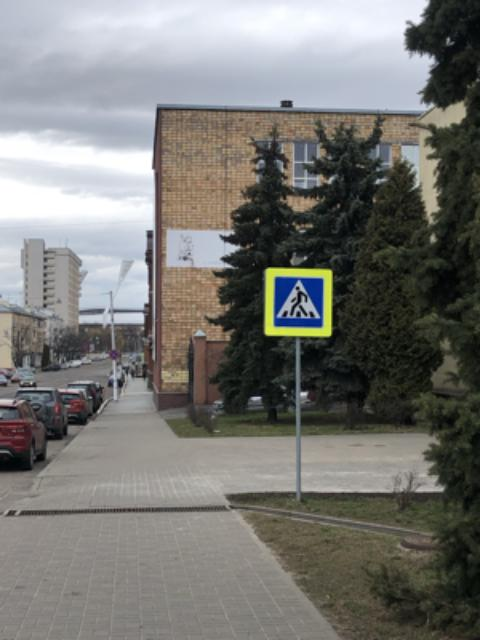crosswalk-sign: (262, 266, 334, 339)
